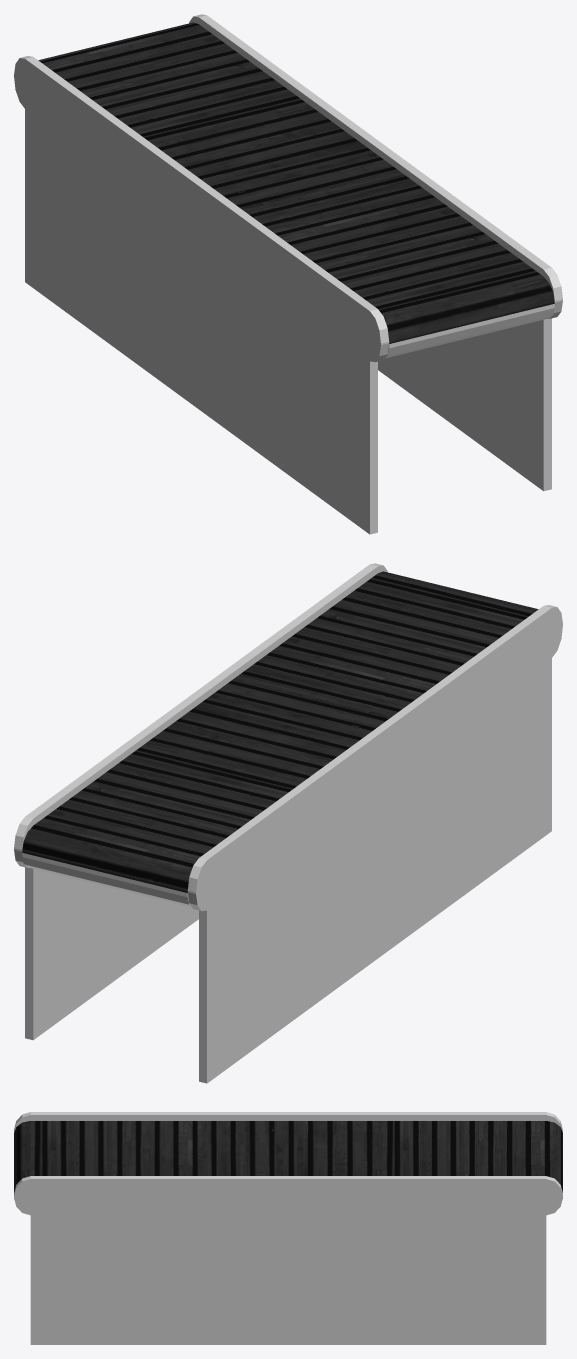
The model's file is band.fbx.
3 views of the same model, one above another, from view 1: azimuth 30°, elevation 25°; view 2: azimuth 150°, elevation 25°; view 3: azimuth 270°, elevation 25° (orthographic). The views are drawn at different scales.
Parts seen in each view (by area): view 1: Band_Irons, Band; view 2: Band_Irons, Band; view 3: Band_Irons, Band.
Boxes of the visible parts, x1,y1,x2,y2 form: Band_Irons: [14, 14, 562, 534]; Band: [38, 22, 554, 343]; Band_Irons: [14, 563, 562, 1083]; Band: [22, 571, 538, 892]; Band_Irons: [14, 1112, 562, 1344]; Band: [14, 1121, 562, 1192].
Bounding box in the file's own units: 220 × 258 × 768.
